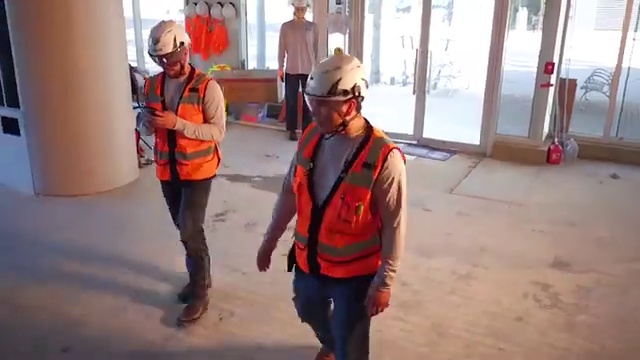helmet: (296, 48, 377, 101), (142, 19, 194, 57)
jacket: (290, 115, 402, 288), (146, 73, 225, 183)
